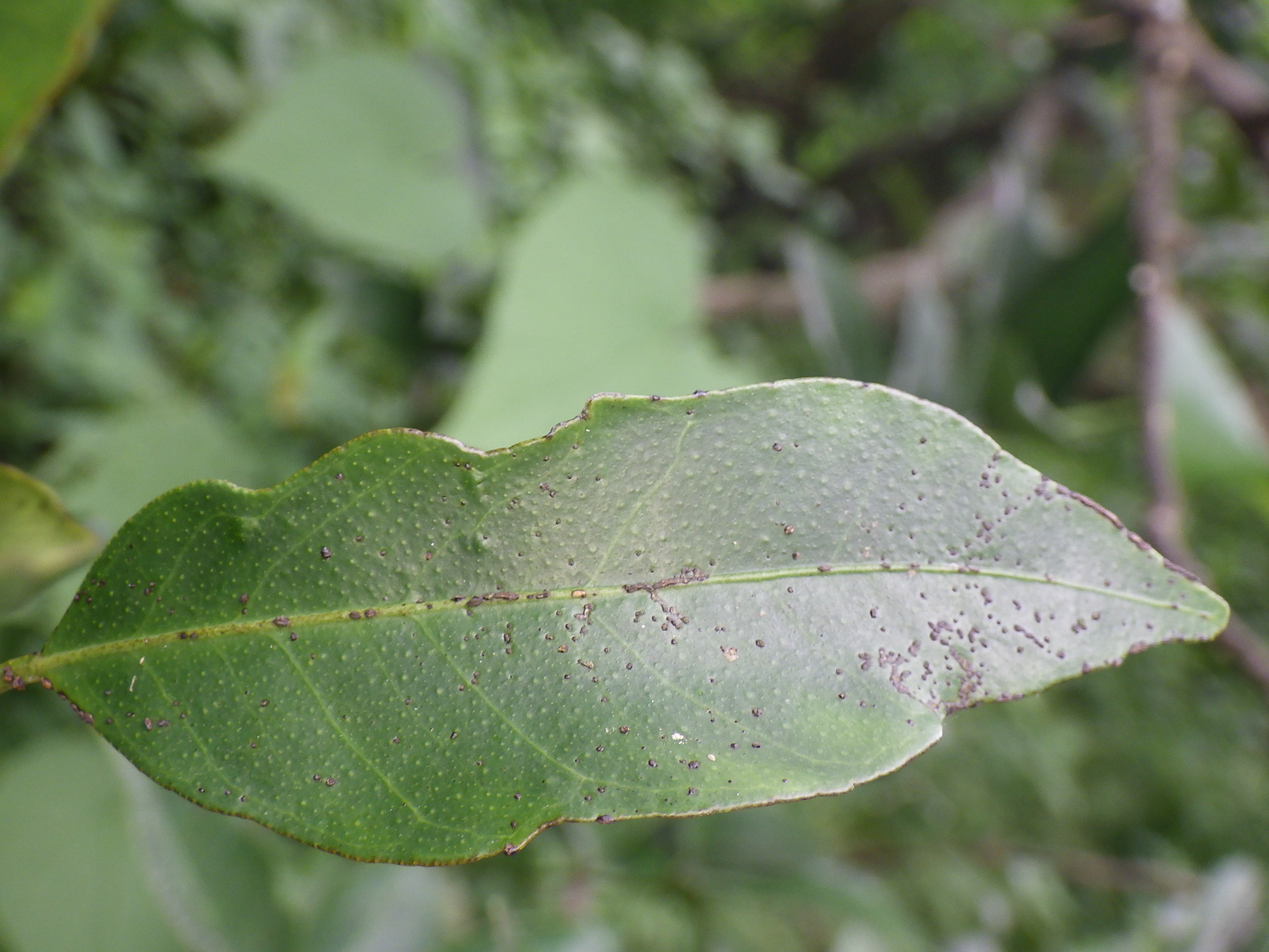Black_Spot: (0, 378, 1227, 865)
